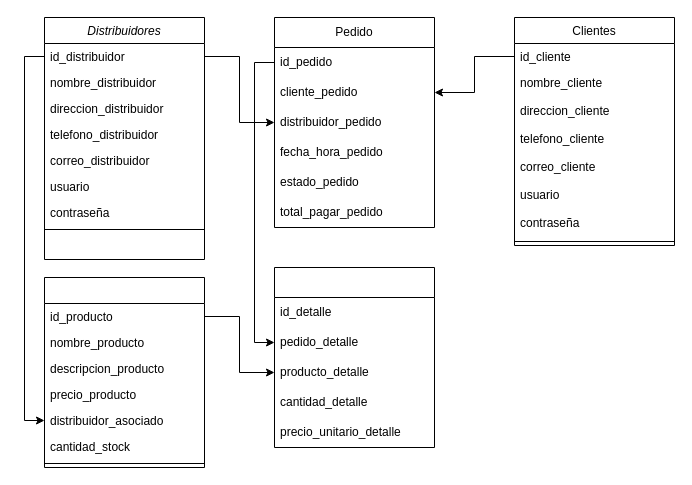
Image size: 692x485. Some labels were removed from this diagram. Here are the shapes that lost their labels. From the top down, the box of each, then its label:
(44, 276, 204, 468): Productos
(274, 266, 434, 448): Detalle pedido
